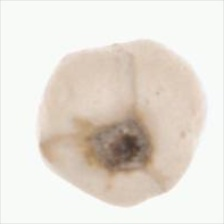L4: (37, 39, 206, 207)
